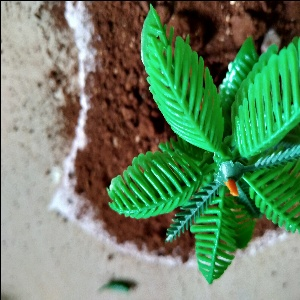plant: (99, 11, 300, 262)
